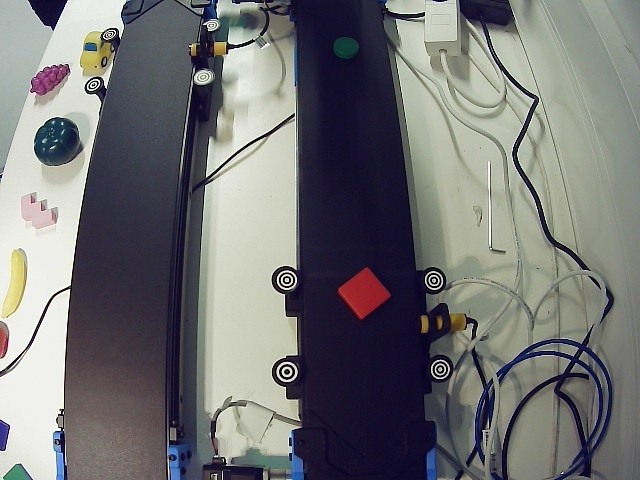Green_Circle: (331, 36, 362, 61)
Red_Square: (335, 265, 393, 317)
